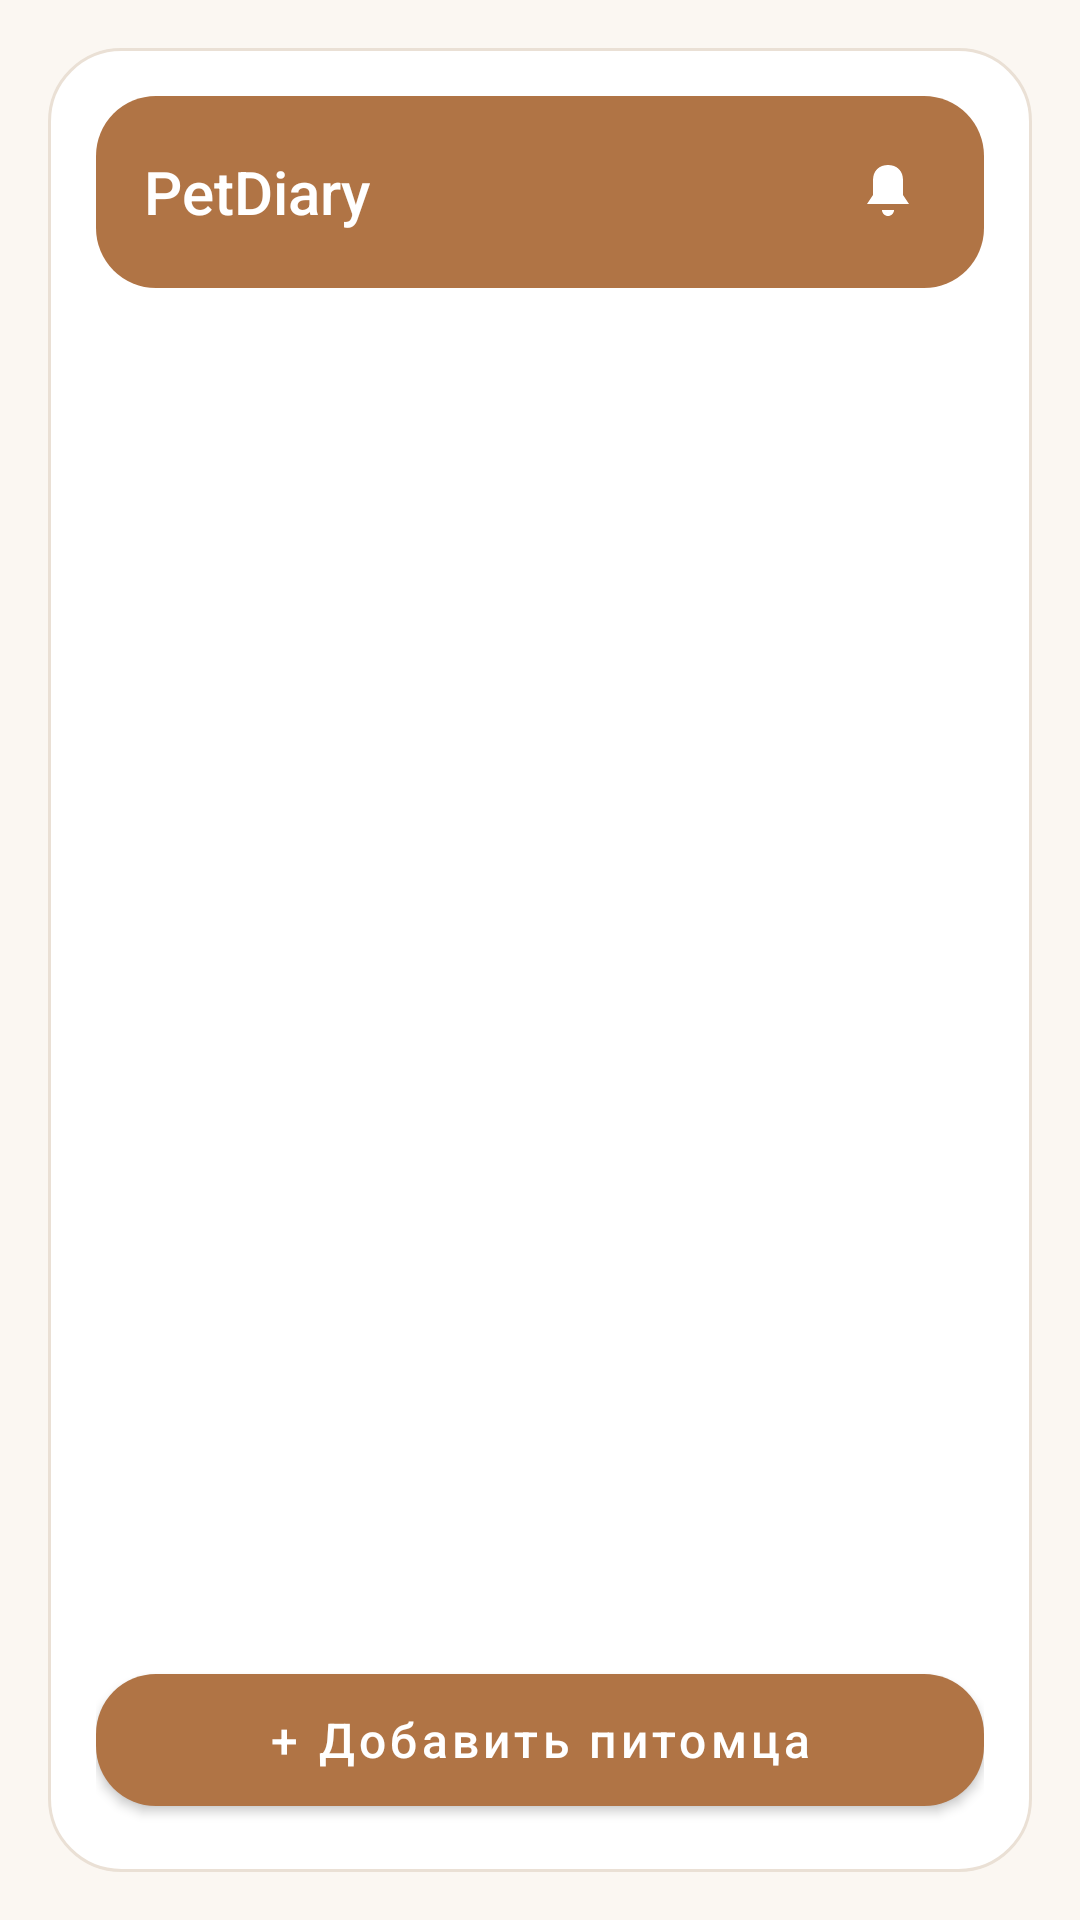

Point at icon controls on the screen. Image size 1080×1920, points as (x=x, y=y).
Уведомления: (x=888, y=190)
